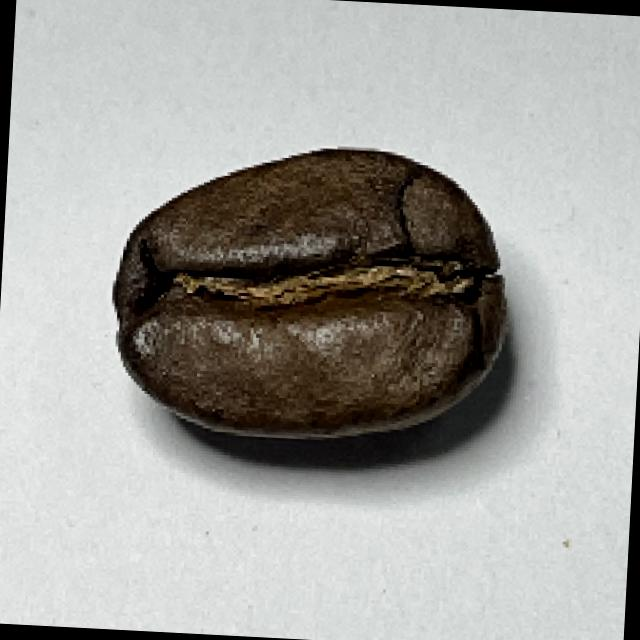bean: (103, 136, 516, 449)
